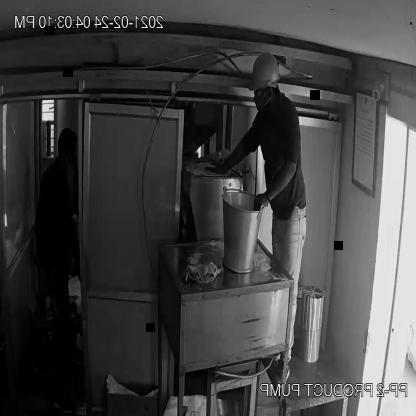helmet: (247, 52, 282, 91)
